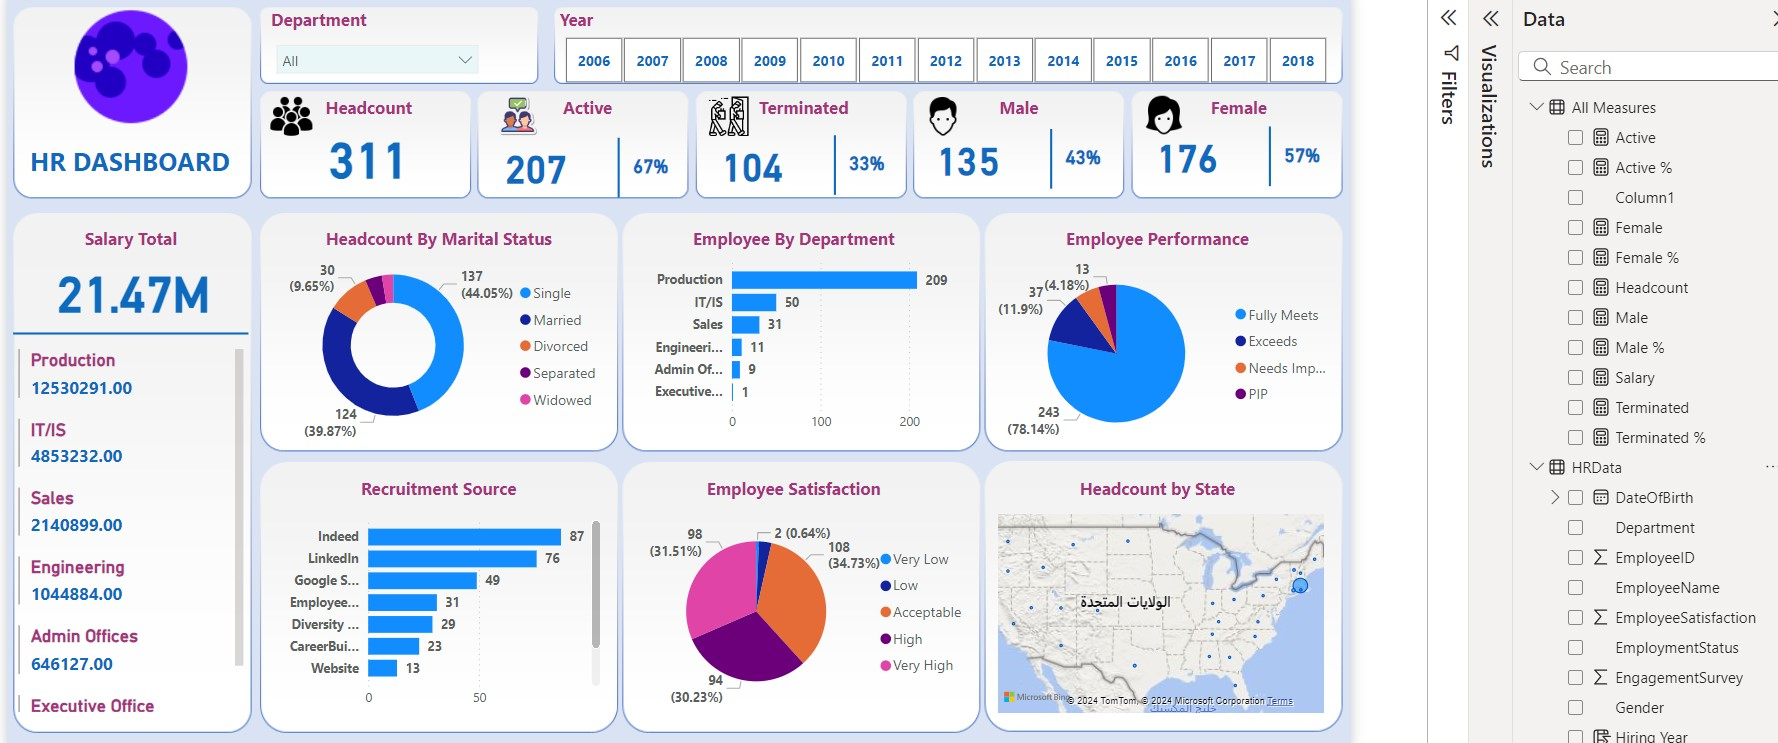

Layout of this report page (visuals, bound fields, positions):
{"tool":"powerbi","page":{"name":"Page 1","canvas":[1280,720],"ordinal":0},"visuals":[{"type":"image","box":[39.8,0,157.8,138.6],"z":0},{"type":"textbox","box":[11,138.6,212.7,46.7],"z":1000},{"type":"textbox","box":[246.1,8.1,118.3,33.6],"z":2000},{"type":"slicer","fields":{"Values":["HRData.Department"]},"box":[246.1,37.7,212.5,41.7],"z":3000},{"type":"slicer","fields":{"Values":["HRData.Hiring Year"]},"box":[505.7,35,774.6,56.5],"z":4000},{"type":"textbox","box":[521.8,8.1,63.2,33.6],"z":5000},{"type":"textbox","box":[246.1,91.4,196.3,35],"z":6000},{"type":"textbox","box":[454.6,91.4,196.3,35],"z":7000},{"type":"textbox","box":[660.3,91.4,196.3,35],"z":8000},{"type":"textbox","box":[866.1,91.4,196.3,35],"z":9000},{"type":"textbox","box":[1074.5,91.4,196.3,35],"z":10000},{"type":"textbox","box":[246.1,216.5,329.5,35],"z":11000},{"type":"textbox","box":[585,216.5,329.5,35],"z":12000},{"type":"textbox","box":[930.6,216.5,329.5,35],"z":13000},{"type":"textbox","box":[246.1,454.6,329.5,35],"z":14000},{"type":"textbox","box":[585,454.6,329.5,35],"z":15000},{"type":"textbox","box":[930.6,454.6,329.5,35],"z":16000},{"type":"textbox","box":[18.8,216.5,197.7,35],"z":17000},{"type":"card","fields":{"Values":["All Measures.Headcount"]},"box":[243.8,124,200.6,60],"z":18000},{"type":"card","fields":{"Values":["All Measures.Femail"]},"box":[1074.1,124,100.3,59.9],"z":19000,"group":"g4"},{"type":"group","id":"g1","title":"Group 1","box":[865.1,126.8,196.4,59.9],"z":19000},{"type":"card","fields":{"Values":["All Measures.Male"]},"box":[865.1,126.8,100.3,59.9],"z":19000,"group":"g1"},{"type":"card","fields":{"Values":["All Measures.Terminated"]},"box":[658.9,132.3,100.3,59.9],"z":19000,"group":"g2"},{"type":"card","fields":{"Values":["All Measures.Active"]},"box":[453,134,100.3,59.9],"z":19000,"group":"g3"},{"type":"card","fields":{"Values":["All Measures.Female %"]},"box":[1196.7,124,73.8,59.9],"z":20000,"group":"g4"},{"type":"card","fields":{"Values":["All Measures.Male %"]},"box":[987.7,126.8,73.8,59.9],"z":20000,"group":"g1"},{"type":"group","id":"g2","title":"Group 1","box":[658.9,132.3,196.4,59.9],"z":20000},{"type":"card","fields":{"Values":["All Measures.Terminated %"]},"box":[781.5,132.3,73.8,59.9],"z":20000,"group":"g2"},{"type":"card","fields":{"Values":["All Measures.Active %"]},"box":[575.6,134,73.8,59.9],"z":20000,"group":"g3"},{"type":"shape","box":[1171.6,126.8,62.7,57.1],"z":21000,"group":"g4"},{"type":"shape","box":[962.6,129.6,62.7,57.1],"z":21000,"group":"g1"},{"type":"group","id":"g3","title":"Group 1","box":[453,134,196.4,59.9],"z":21000},{"type":"shape","box":[756.4,135.1,62.7,57.1],"z":21000,"group":"g2"},{"type":"shape","box":[550.5,136.8,62.7,57.1],"z":21000,"group":"g3"},{"type":"group","id":"g4","title":"Group 1","box":[1074.1,124,196.4,59.9],"z":22000},{"type":"donutChart","fields":{"Category":["HRData.MaritalStatus"],"Y":["All Measures.Headcount"]},"box":[243.4,234,332.2,200.4],"z":23000},{"type":"clusteredBarChart","fields":{"Y":["All Measures.Headcount"],"Category":["HRData.Department"]},"box":[597.1,243.4,318.7,182.9],"z":24000},{"type":"pieChart","fields":{"Category":["HRData.PerformanceScore"],"Y":["All Measures.Headcount"]},"box":[939,242.8,331.9,199.7],"z":25000},{"type":"clusteredBarChart","fields":{"Y":["All Measures.Headcount"],"Category":["HRData.RecruitmentSource"]},"box":[250.8,488.6,319,200.1],"z":26000},{"type":"pieChart","fields":{"Category":["HRData.Satisfaction Status"],"Y":["All Measures.Headcount"]},"box":[591.6,488.6,332,200.1],"z":27000},{"type":"map","fields":{"Category":["HRData.State"],"Size":["All Measures.Headcount"]},"box":[939.4,490.2,320.4,199],"z":28000},{"type":"card","fields":{"Values":["All Measures.Salary"]},"box":[16.1,251.7,207.8,60],"z":29000},{"type":"shape","box":[5.9,313.1,223.9,20.5],"z":30000},{"type":"multiRowCard","fields":{"Values":["All Measures.Salary","HRData.Department"]},"box":[5.9,333.6,223.9,355.6],"z":31000},{"type":"image","box":[1074,90.7,55.6,50],"z":32000},{"type":"image","box":[864.7,92.2,55,50],"z":33000},{"type":"image","box":[659.9,92.2,55.6,49.7],"z":34000},{"type":"image","box":[458,90.7,55.6,49.7],"z":35000},{"type":"image","box":[242.9,92.2,55.6,49.7],"z":36000}]}

Visuals, with their boxes on the page's 1280x720 design canvas (x1, y1, x2, y2). These are canvas units, not pixel positions in the 1778x743 screenshot, which may show the page scaled, cropped or inside an application window:
image: box(40, 0, 198, 139)
textbox: box(11, 139, 224, 185)
textbox: box(246, 8, 364, 42)
slicer - HRData.Department: box(246, 38, 459, 79)
slicer - HRData.Hiring Year: box(506, 35, 1280, 92)
textbox: box(522, 8, 585, 42)
textbox: box(246, 91, 442, 126)
textbox: box(455, 91, 651, 126)
textbox: box(660, 91, 857, 126)
textbox: box(866, 91, 1062, 126)
textbox: box(1074, 91, 1271, 126)
textbox: box(246, 216, 576, 252)
textbox: box(585, 216, 914, 252)
textbox: box(931, 216, 1260, 252)
textbox: box(246, 455, 576, 490)
textbox: box(585, 455, 914, 490)
textbox: box(931, 455, 1260, 490)
textbox: box(19, 216, 216, 252)
card - All Measures.Headcount: box(244, 124, 444, 184)
card - All Measures.Femail: box(1074, 124, 1174, 184)
"Group 1" group: box(865, 127, 1062, 187)
card - All Measures.Male: box(865, 127, 965, 187)
card - All Measures.Terminated: box(659, 132, 759, 192)
card - All Measures.Active: box(453, 134, 553, 194)
card - All Measures.Female %: box(1197, 124, 1270, 184)
card - All Measures.Male %: box(988, 127, 1062, 187)
"Group 1" group: box(659, 132, 855, 192)
card - All Measures.Terminated %: box(782, 132, 855, 192)
card - All Measures.Active %: box(576, 134, 649, 194)
shape: box(1172, 127, 1234, 184)
shape: box(963, 130, 1025, 187)
"Group 1" group: box(453, 134, 649, 194)
shape: box(756, 135, 819, 192)
shape: box(550, 137, 613, 194)
"Group 1" group: box(1074, 124, 1270, 184)
donutChart - HRData.MaritalStatus x All Measures.Headcount: box(243, 234, 576, 434)
clusteredBarChart - All Measures.Headcount x HRData.Department: box(597, 243, 916, 426)
pieChart - HRData.PerformanceScore x All Measures.Headcount: box(939, 243, 1271, 442)
clusteredBarChart - All Measures.Headcount x HRData.RecruitmentSource: box(251, 489, 570, 689)
pieChart - HRData.Satisfaction Status x All Measures.Headcount: box(592, 489, 924, 689)
map - HRData.State x All Measures.Headcount: box(939, 490, 1260, 689)
card - All Measures.Salary: box(16, 252, 224, 312)
shape: box(6, 313, 230, 334)
multiRowCard - All Measures.Salary x HRData.Department: box(6, 334, 230, 689)
image: box(1074, 91, 1130, 141)
image: box(865, 92, 920, 142)
image: box(660, 92, 716, 142)
image: box(458, 91, 514, 140)
image: box(243, 92, 298, 142)
